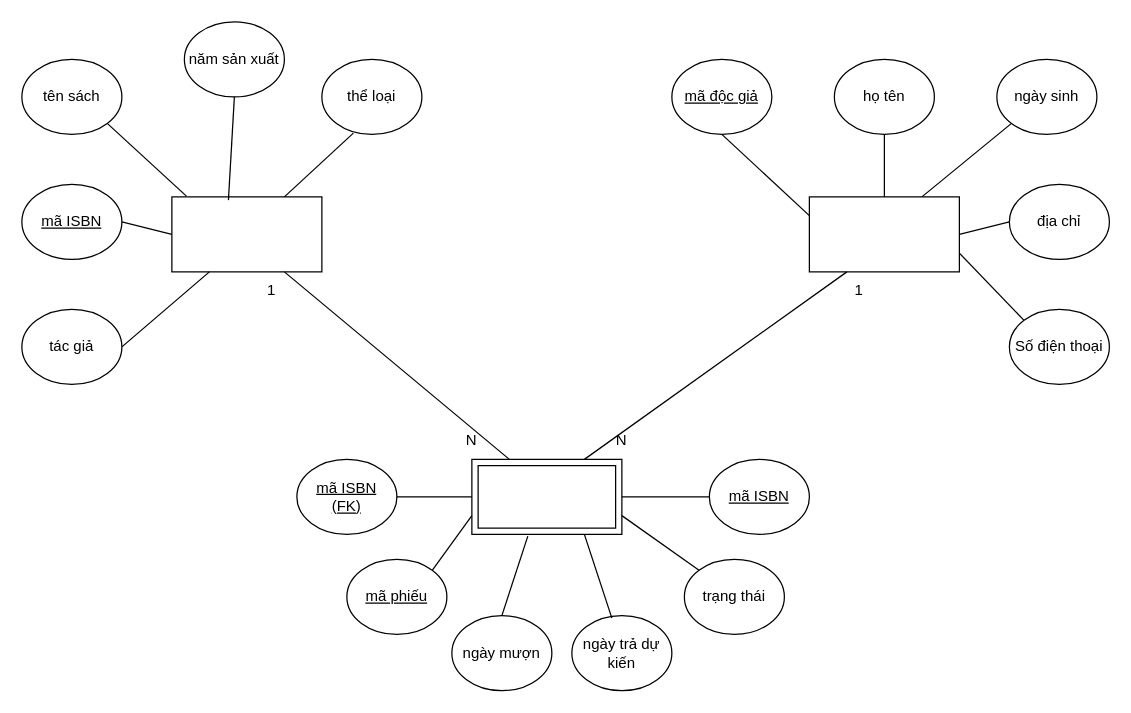
This 1131x713 diagram has some shape labels left out. Each missing label, with the centre of its shape:
Phiếu mượn sách: (x=546, y=496)
Sách: (x=246, y=234)
Độc giả: (x=883, y=234)
